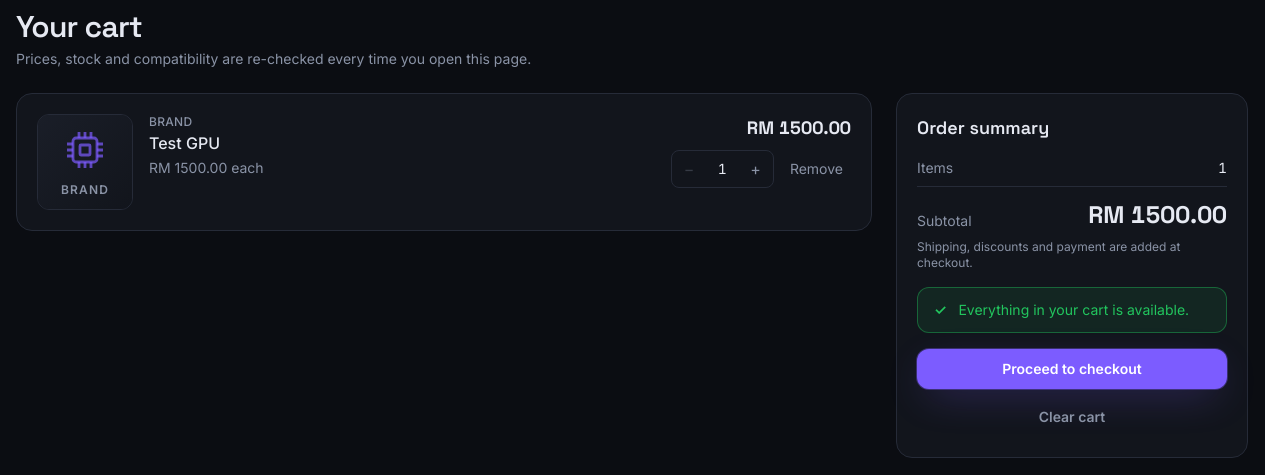
Scenario: Cart page › shows the server's reason when a quantity change is refused
Click the button "+" at (756,169), box x1=738 y1=151 x2=773 y2=187
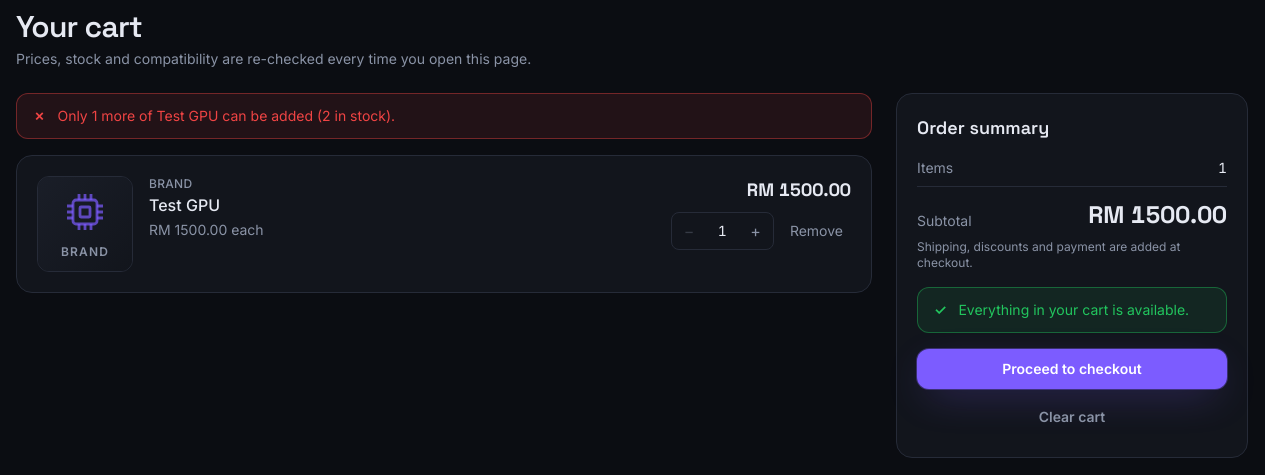
Expected: the text with test id "subtotal" reads "RM 1500.00", x1=1088 y1=199 x2=1227 y2=230
Expected: the text "Only 1 more of Test GPU can be added (2 in stock)." is shown, x1=57 y1=106 x2=395 y2=126
